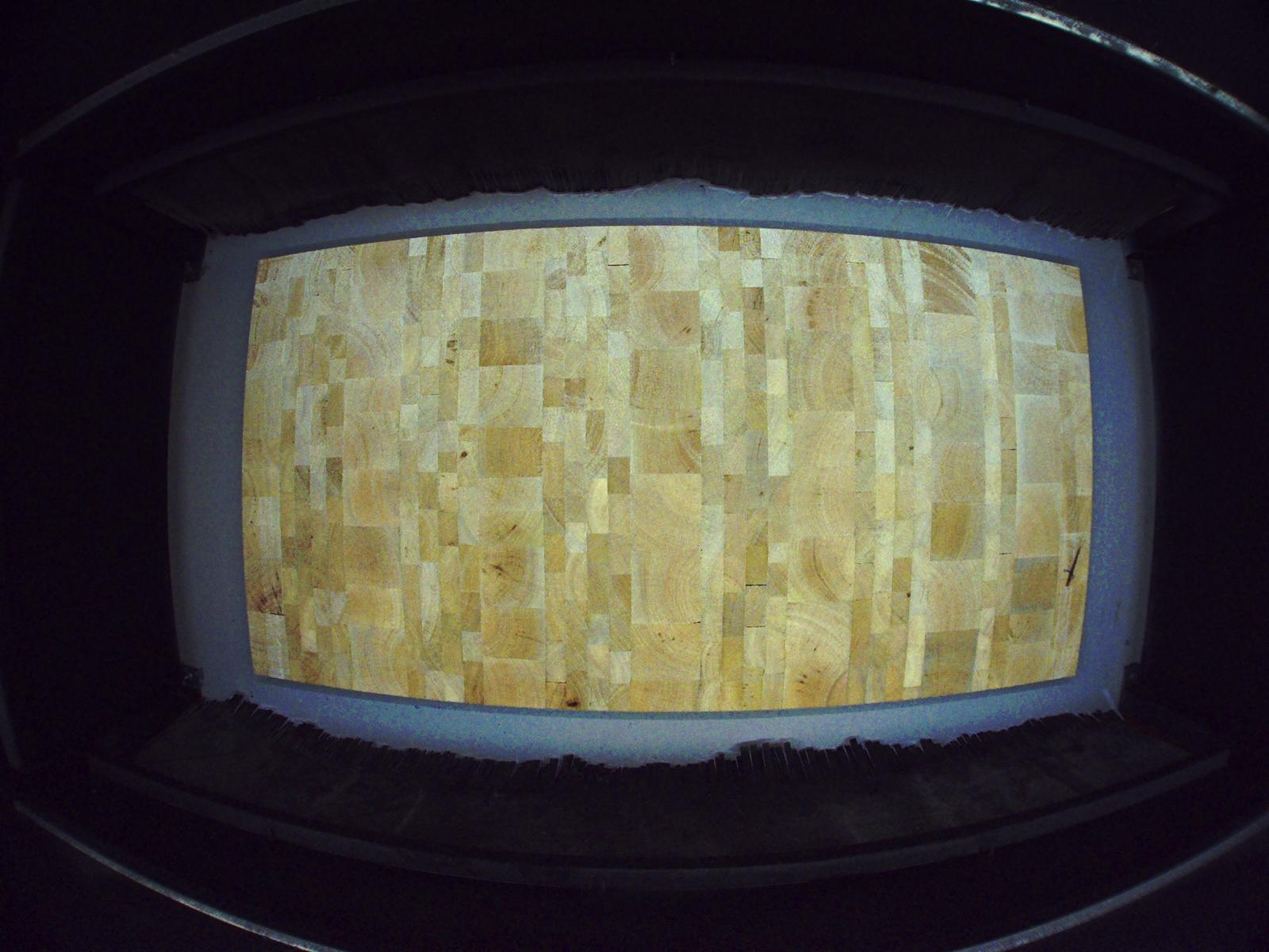nudillo: (565, 700, 580, 709)
